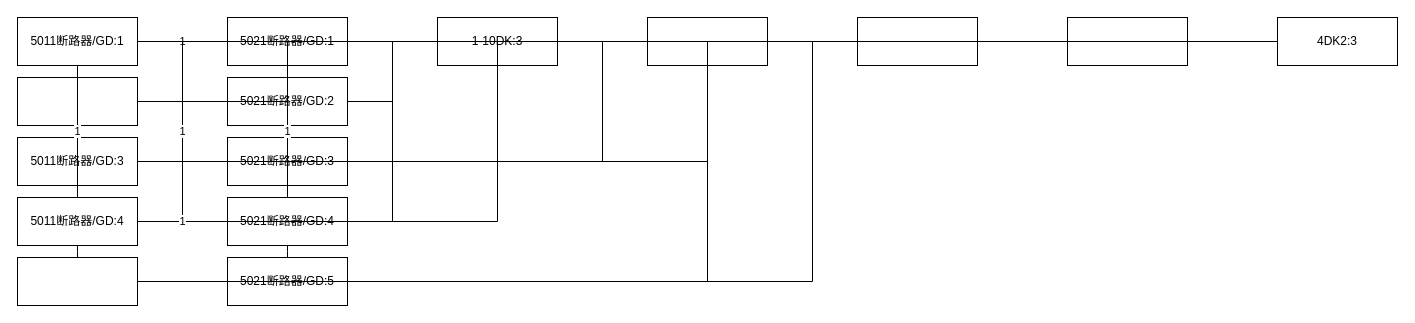
Image size: 1415x323. Some labels were removed from this diagram. Here are the shapes that lost their labels. From the top down, the centre of each, then its label:
At point (707, 41): "2-10DK:3".
At point (917, 41): "3DK:3".
At point (1127, 41): "4DK1:3".
At point (77, 101): "5011断路器/GD:2".
At point (77, 281): "5011断路器/GD:5".
